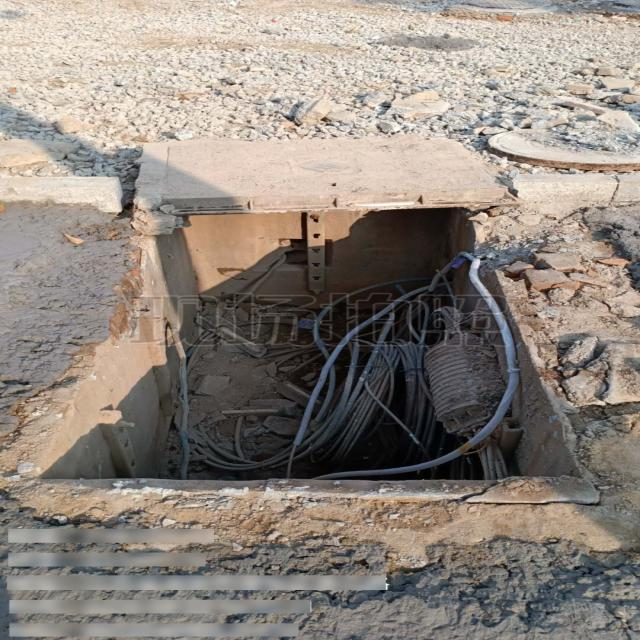Uncovered: (6, 199, 602, 507)
